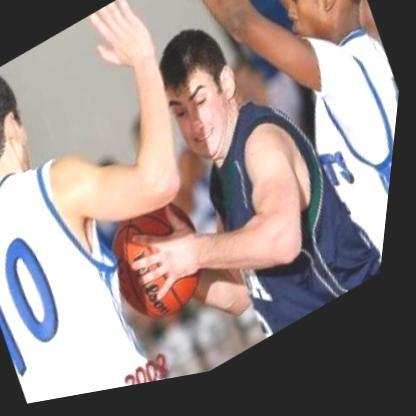basketball: (89, 168, 244, 358)
